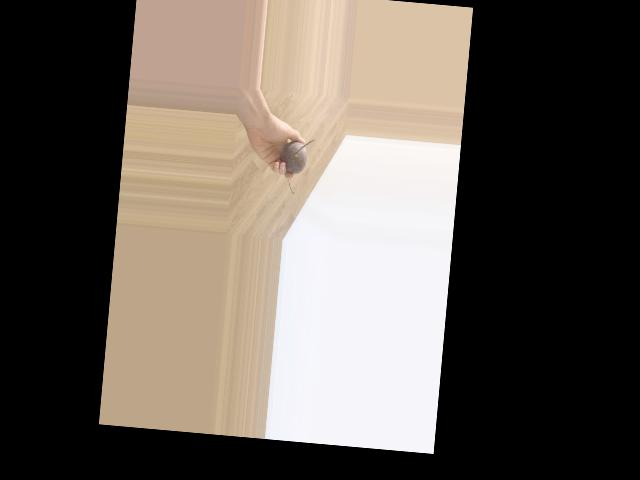beet: (277, 137, 314, 196)
